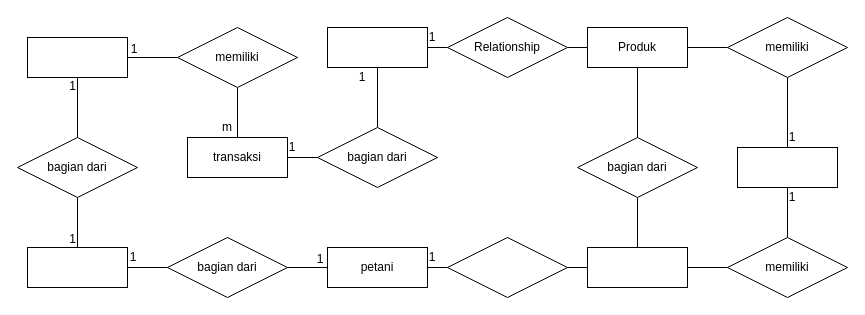
Some shapes in this 865 by 315 pixel diagram are drawn without their labels. Here are the shapes that lost their labels. From the top down, the centre of each, then its label:
pixel 77 57: konsumen
pixel 377 47: detail_transaksi
pixel 787 167: jenis_hasil_tani
pixel 77 267: Users
pixel 507 267: melakukan
pixel 637 267: Garapan
